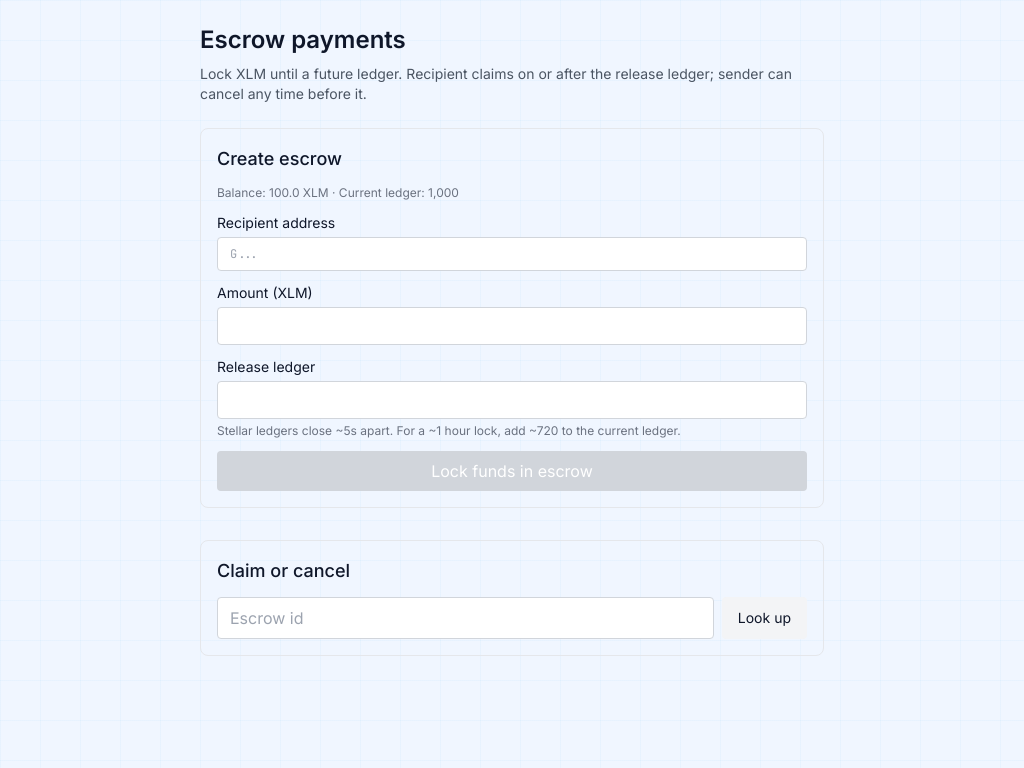
Test case: EscrowPage › Create escrow form validates release date must be in the future (greater than current ledger)
Expected: the text "Balance: 100.0 XLM · Current ledger: 1,000" is shown, [217,185,459,200]
Type "GAAAAAAAAAAAAAAAAAAAAAAAAAAAAAAAAAAAAAAAAAAAAAAAAAAAAAAA" into the field labelled "Recipient address" at [512, 254], box [217,237,807,271]
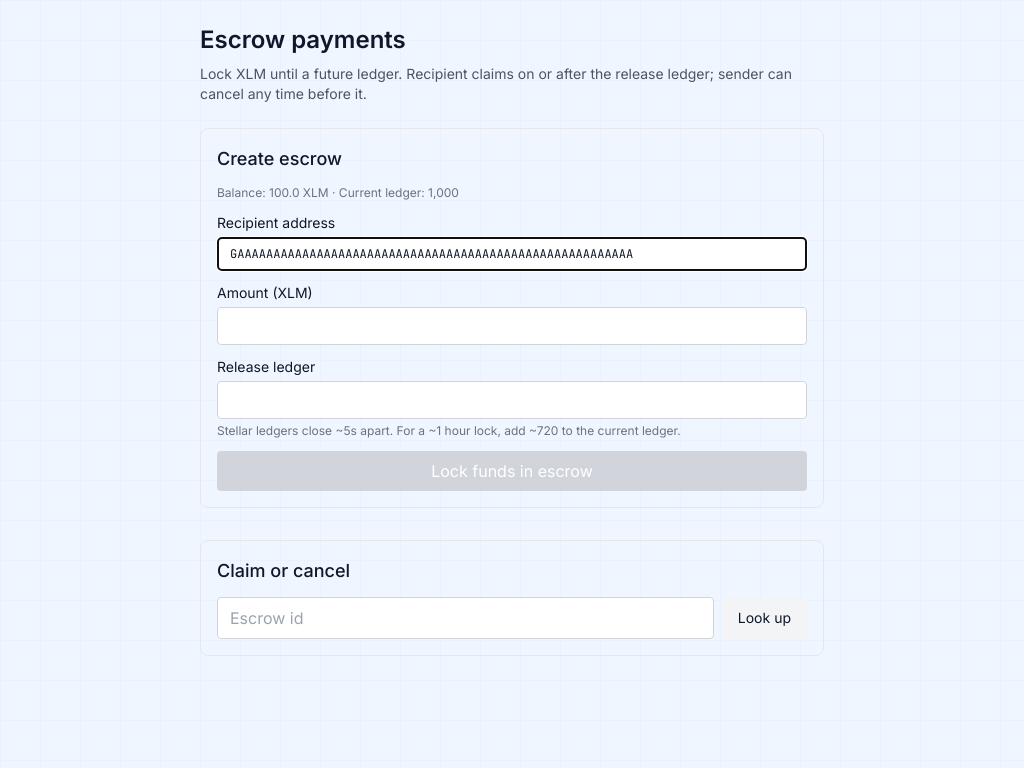
Type "50" into the number field labelled "Amount (XLM)" at [512, 326], box [217,307,807,345]
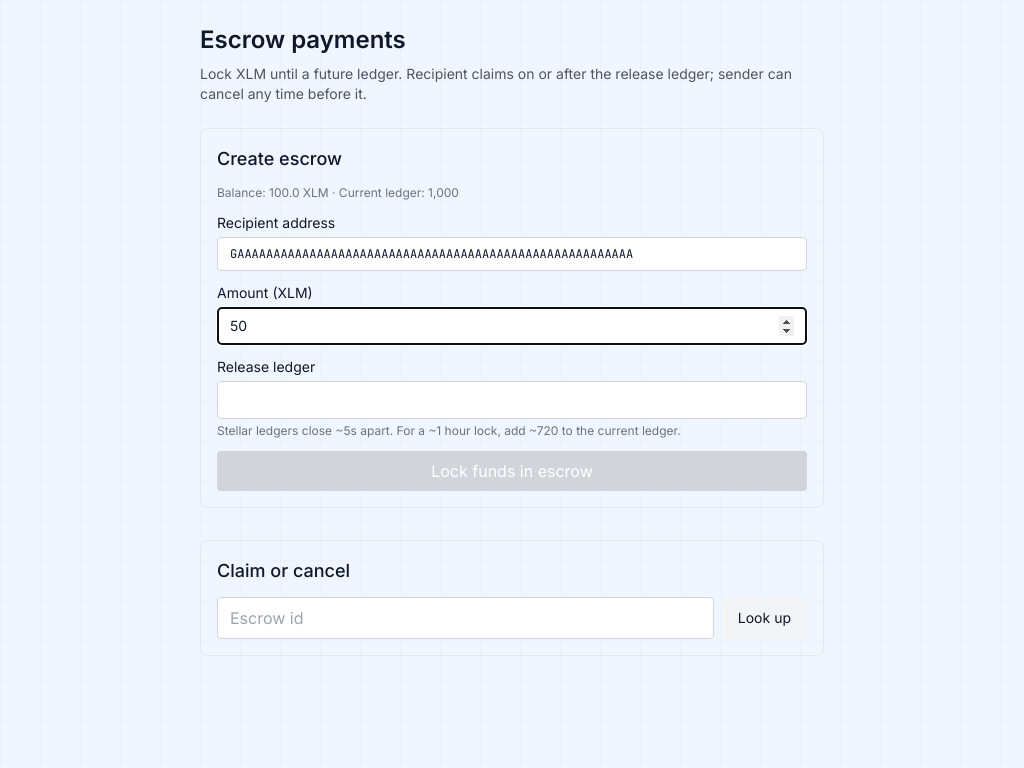
Type "950" into the number field labelled "Release ledger" at [512, 400], box [217,381,807,419]
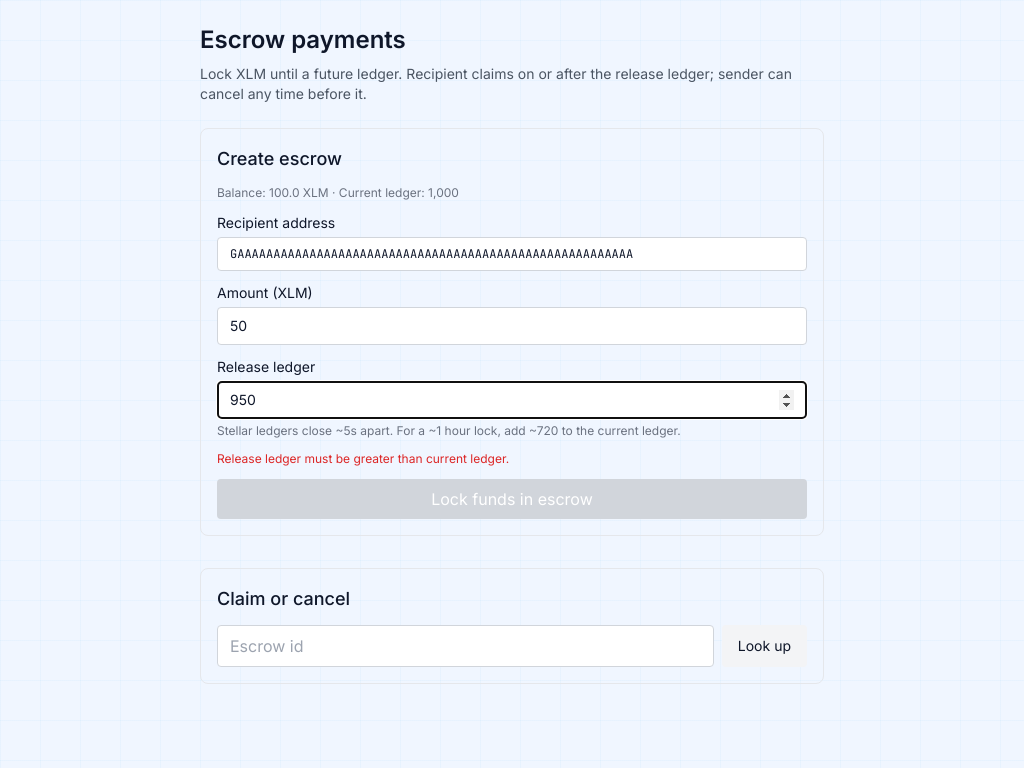
Expected: the button "Lock funds in escrow" is disabled, [217,479,807,519]
Now the text "Release ledger must be greater than current ledger." is shown, box [217,451,509,466]
Replace the text in the number field labelled "Release ledger" with "1500" at [512, 400], box [217,381,807,419]
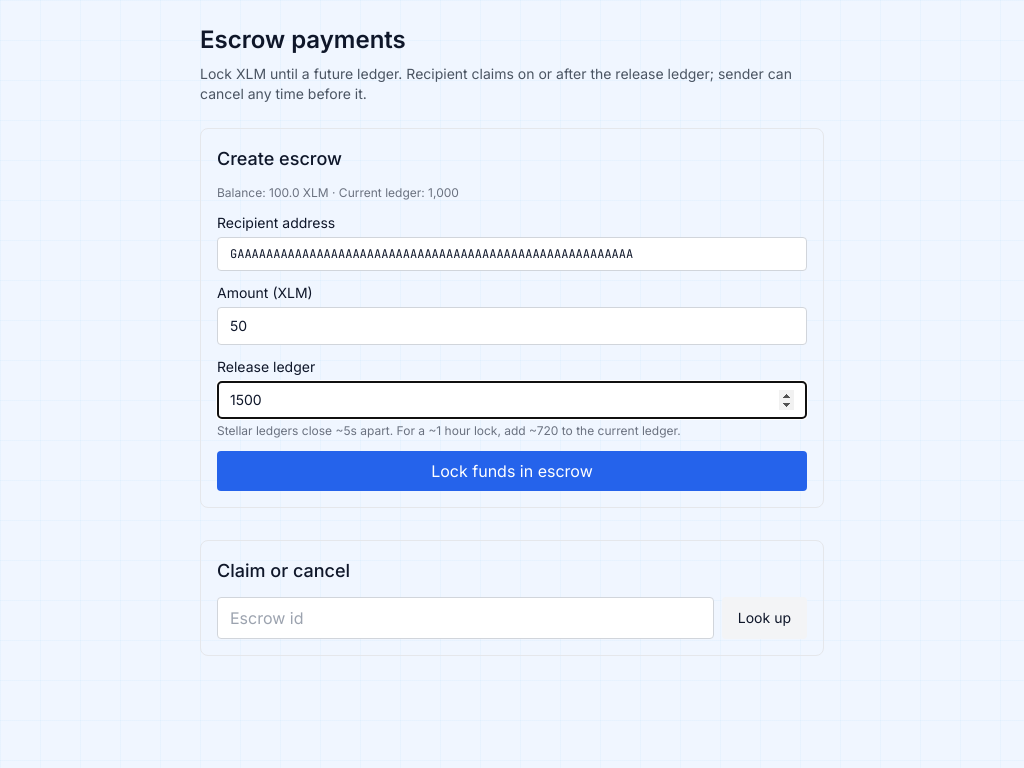
Expected: the text "Release ledger must be greater than current ledger." is not shown
Now the button "Lock funds in escrow" is enabled, box [217,451,807,491]
